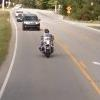Motorcycle: (35, 28, 59, 59)
